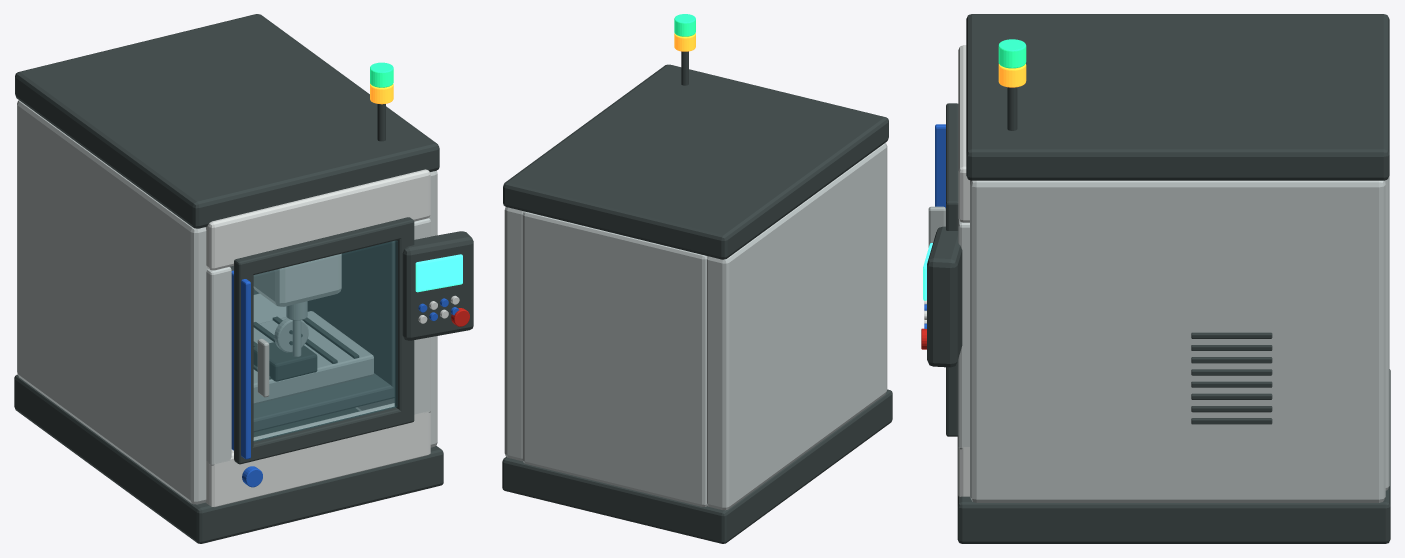
Rendered from cellforge-vmc.glb.
3 renders of one model, left to right at view 1: azimuth 30°, elevation 25°; view 2: azimuth 150°, elevation 25°; view 3: azimuth 270°, elevation 25°, orthographic. The views are drawn at different scales.
Parts seen in each view (by area): view 1: Shell_Left, Shell_Roof, DoorGlass, Shell_Base, Shell_FrontHeader, Shell_FrontApron, Interior_RightLiner, Control_Body, Shell_LeftJamb, Table_Bed, Interior_Floor, Door_Frame_Top (+14 smaller); view 2: Shell_Back, Shell_Left, Shell_Roof, Shell_Base, Shell_Right; view 3: Shell_Right, Shell_Roof, Shell_Base, Control_Body, Shell_RightJamb, Shell_FrontHeader, Shell_Back, Door_Frame_Right, Door_Frame_Top, Shell_Accent, StackLight_Green, Shell_FrontApron (+8 smaller).
Boxes of the visible parts, x1,y1,x2,y2 form: Shell_Left: (17,100,208,504); Shell_Roof: (15,14,439,228); DoorGlass: (254,240,397,441); Shell_Base: (14,374,443,543); Shell_FrontHeader: (205,169,430,270); Shell_FrontApron: (205,403,430,507); Interior_RightLiner: (307,241,394,387); Control_Body: (402,231,473,340); Shell_LeftJamb: (206,267,231,465); Table_Bed: (253,311,373,404); Interior_Floor: (253,373,394,432); Door_Frame_Top: (238,220,410,274); Shell_Back: (522,211,707,506); Shell_Left: (707,143,887,510); Shell_Roof: (503,64,888,259); Shell_Base: (502,389,892,543); Shell_Right: (504,207,523,461); Shell_Right: (970,180,1385,502); Shell_Roof: (966,14,1389,180); Shell_Base: (957,369,1390,543); Control_Body: (927,226,962,367); Shell_RightJamb: (958,218,969,449); Shell_FrontHeader: (958,45,969,222); Shell_Back: (1385,176,1389,490); Door_Frame_Right: (946,194,958,436); Door_Frame_Top: (946,110,958,201); Shell_Accent: (935,124,945,208); StackLight_Green: (998,39,1026,68); Shell_FrontApron: (958,447,969,496).
Bounding box in the file's own units: 1.85 × 2.76 × 2.44.
